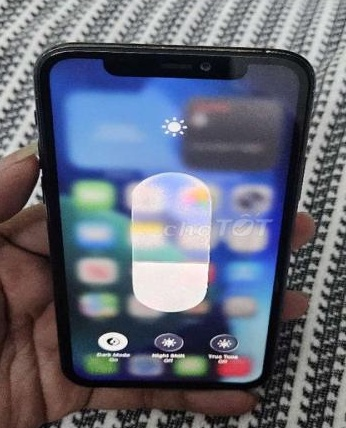scratch: (82, 43, 303, 63), (28, 48, 61, 66)
